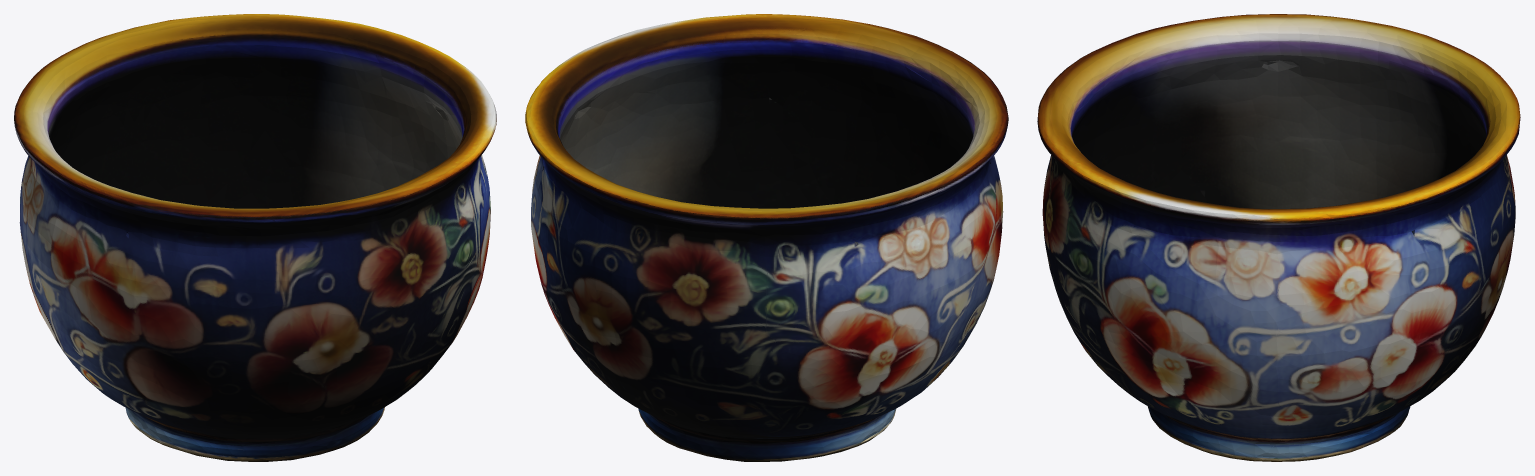
Rendered from ceramic-pottery-piece-japanese.jpeg.glb.
3 views of the same model, side by side, from view 1: azimuth 30°, elevation 25°; view 2: azimuth 150°, elevation 25°; view 3: azimuth 270°, elevation 25° (orthographic).
Parts seen in each view (by area): view 1: world; view 2: world; view 3: world.
Boxes of the visible parts, left/top/right/bottom form: world: left=14, top=14, right=496, bottom=461; world: left=525, top=14, right=1008, bottom=461; world: left=1037, top=14, right=1520, bottom=461.
Bounding box in the file's own units: 0.9974 × 0.6742 × 0.9997.
1 material, 1 textured.
